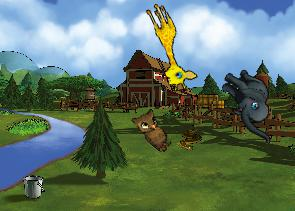elephant: (206, 63, 293, 144)
giraffe: (134, 0, 200, 94)
owl: (127, 103, 181, 154)
